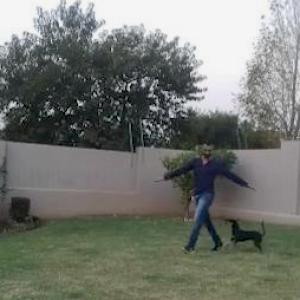land: (175, 137, 261, 240)
